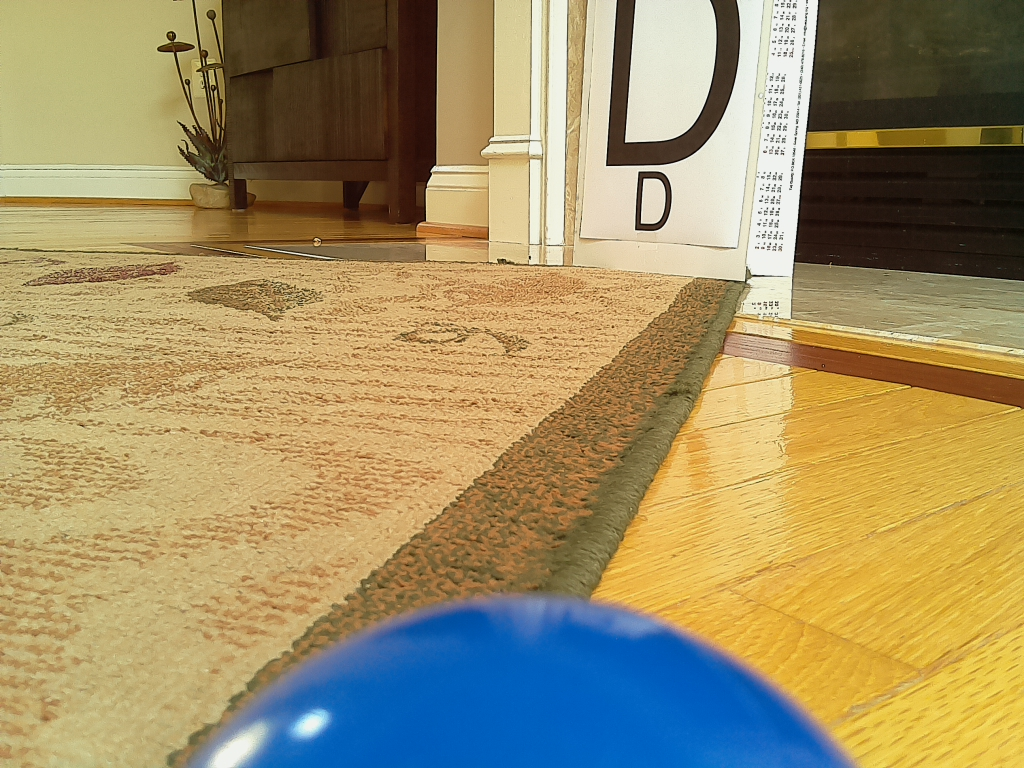letter: (617, 1, 740, 165)
